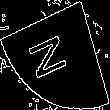N_E: (31, 27, 79, 83)
